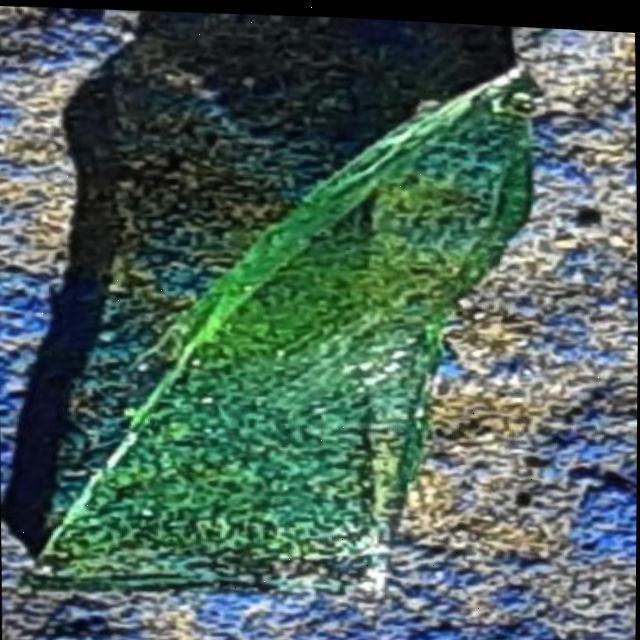Dry: (16, 31, 543, 612)
